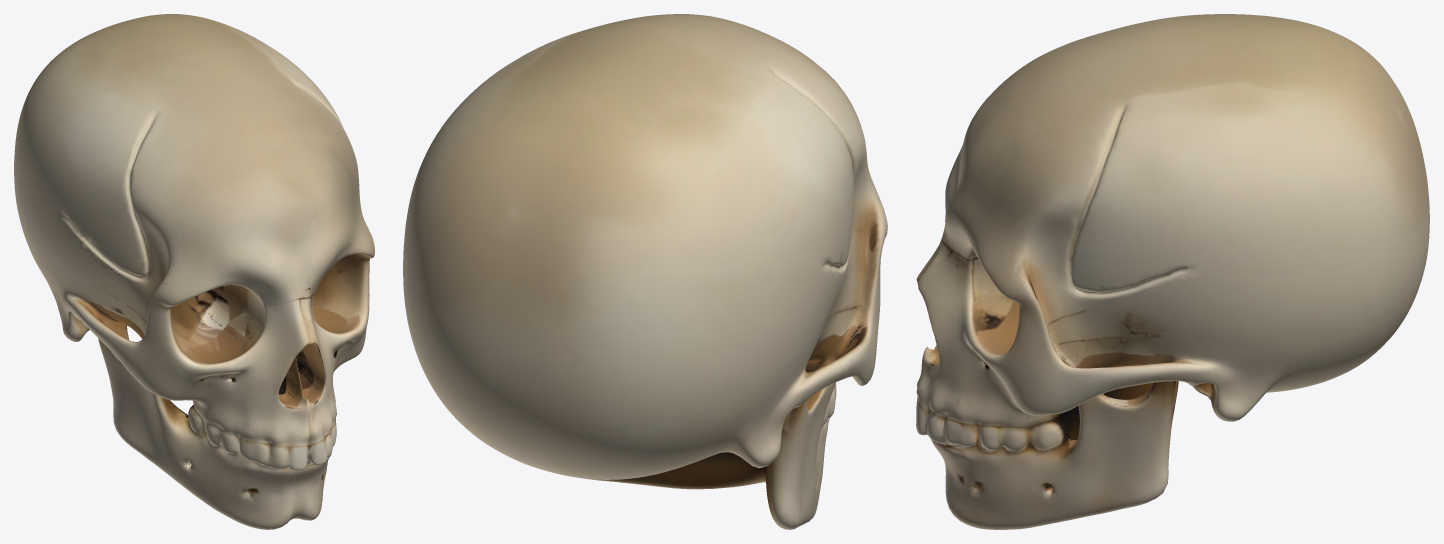
The model's file is cat-skull.glb.
The picture shows the model from 3 angles, left to right: view 1: azimuth 30°, elevation 25°; view 2: azimuth 150°, elevation 25°; view 3: azimuth 270°, elevation 25°; orthographic projection. The views are drawn at different scales.
Parts seen in each view (by area): view 1: model; view 2: model; view 3: model.
Boxes of the visible parts, <box> form: model: <box>14,14,374,529</box>; model: <box>403,14,887,529</box>; model: <box>916,14,1429,529</box>.
Bounding box in the file's own units: 1.3 × 1.9 × 1.84.
Materials: 1 (1 with a texture image).
